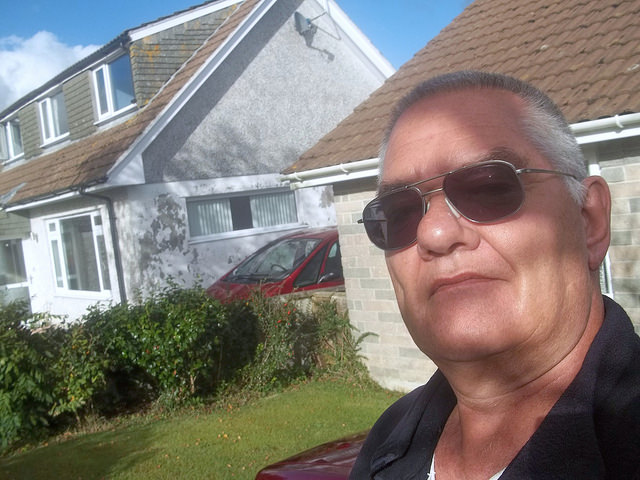sunglasses: (362, 160, 525, 245), (371, 160, 522, 248), (371, 160, 525, 245), (360, 160, 522, 208), (302, 150, 368, 188), (302, 188, 353, 198)
